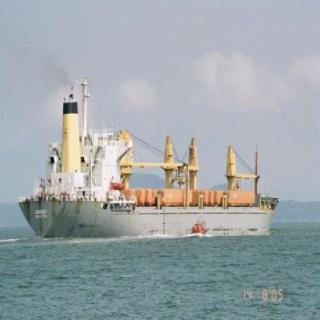Bulk Carrier: (16, 95, 278, 236)
